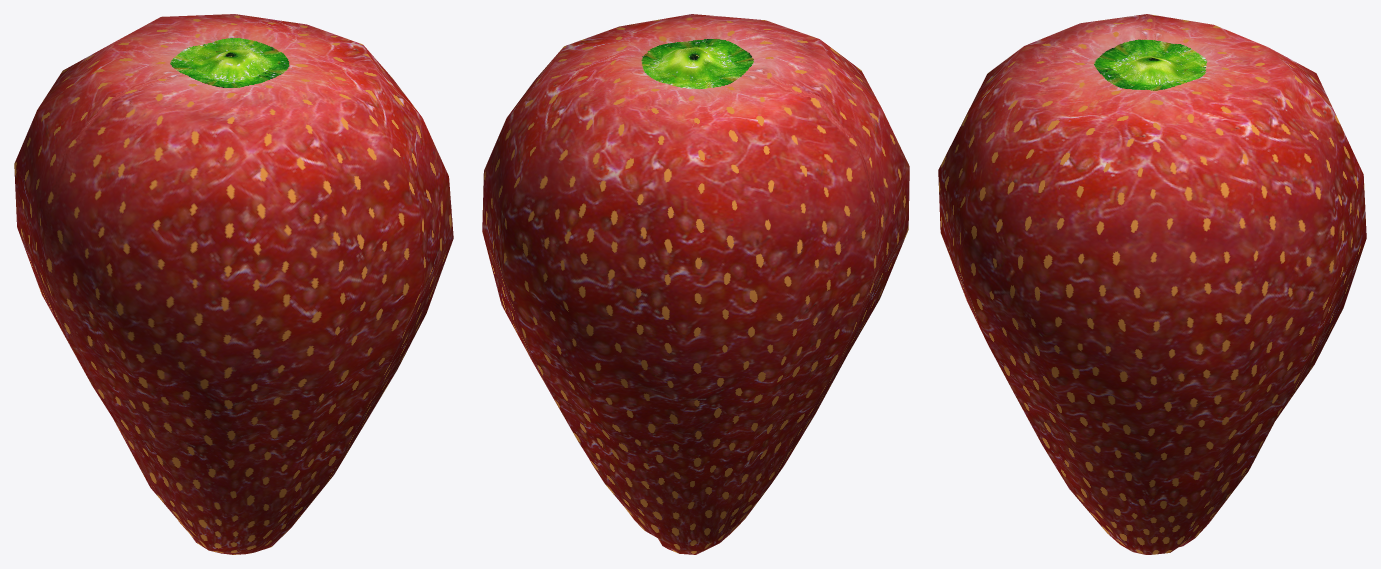
Rendered from strawberry.fbx.
3 views of the same model, side by side, from view 1: azimuth 30°, elevation 25°; view 2: azimuth 150°, elevation 25°; view 3: azimuth 270°, elevation 25° (orthographic). The views are drawn at different scales.
Visible parts, largest first — view 1: RetopoFlow; view 2: RetopoFlow; view 3: RetopoFlow.
Boxes of the visible parts, x1,y1,x2,y2 form: RetopoFlow: (14, 14, 453, 554); RetopoFlow: (482, 14, 909, 554); RetopoFlow: (938, 14, 1366, 554).
Size of the model in its own units: 0.0741 by 0.0937 by 0.0746.
1 material, 1 textured.
